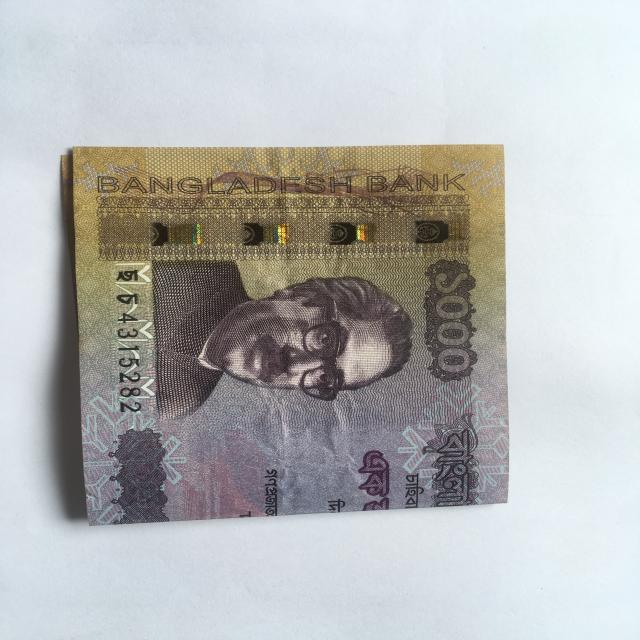Taka: (58, 138, 516, 524)
